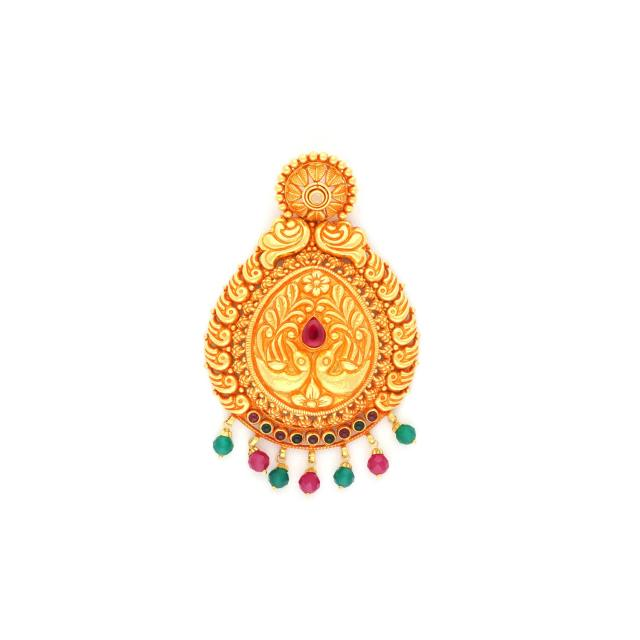missing gem: (312, 193, 322, 203)
